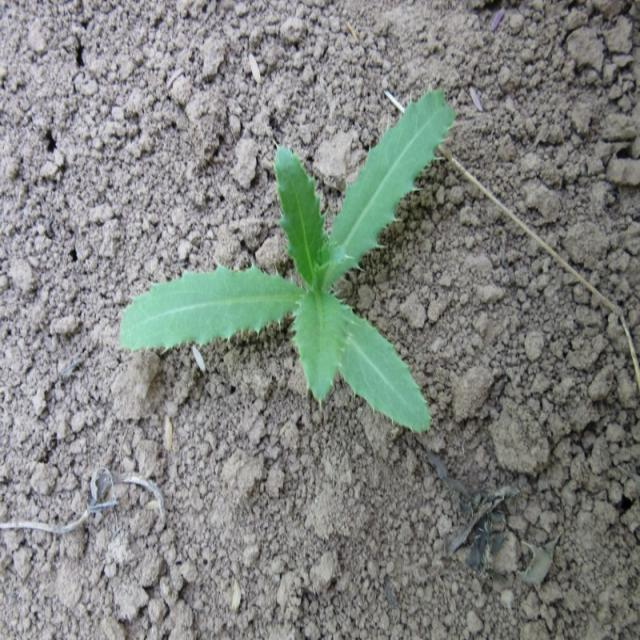cs: (115, 84, 461, 439)
